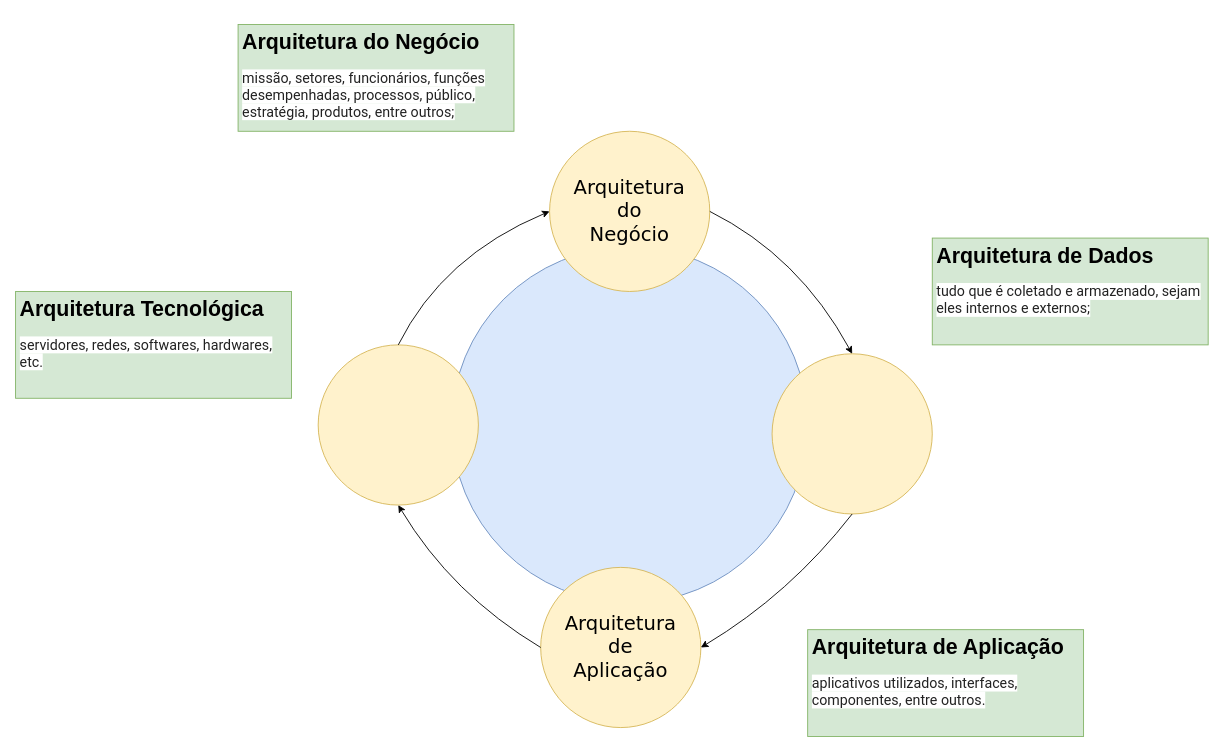
This 1224x752 diagram has some shape labels left out. Here are the shapes that lost their labels. From the top down, the centre of each, then its label:
pixel 397 424: Arquitetura Tecnológica
pixel 629 424: Arquitetura Corporativa
pixel 851 433: Arquitetura de Dados
